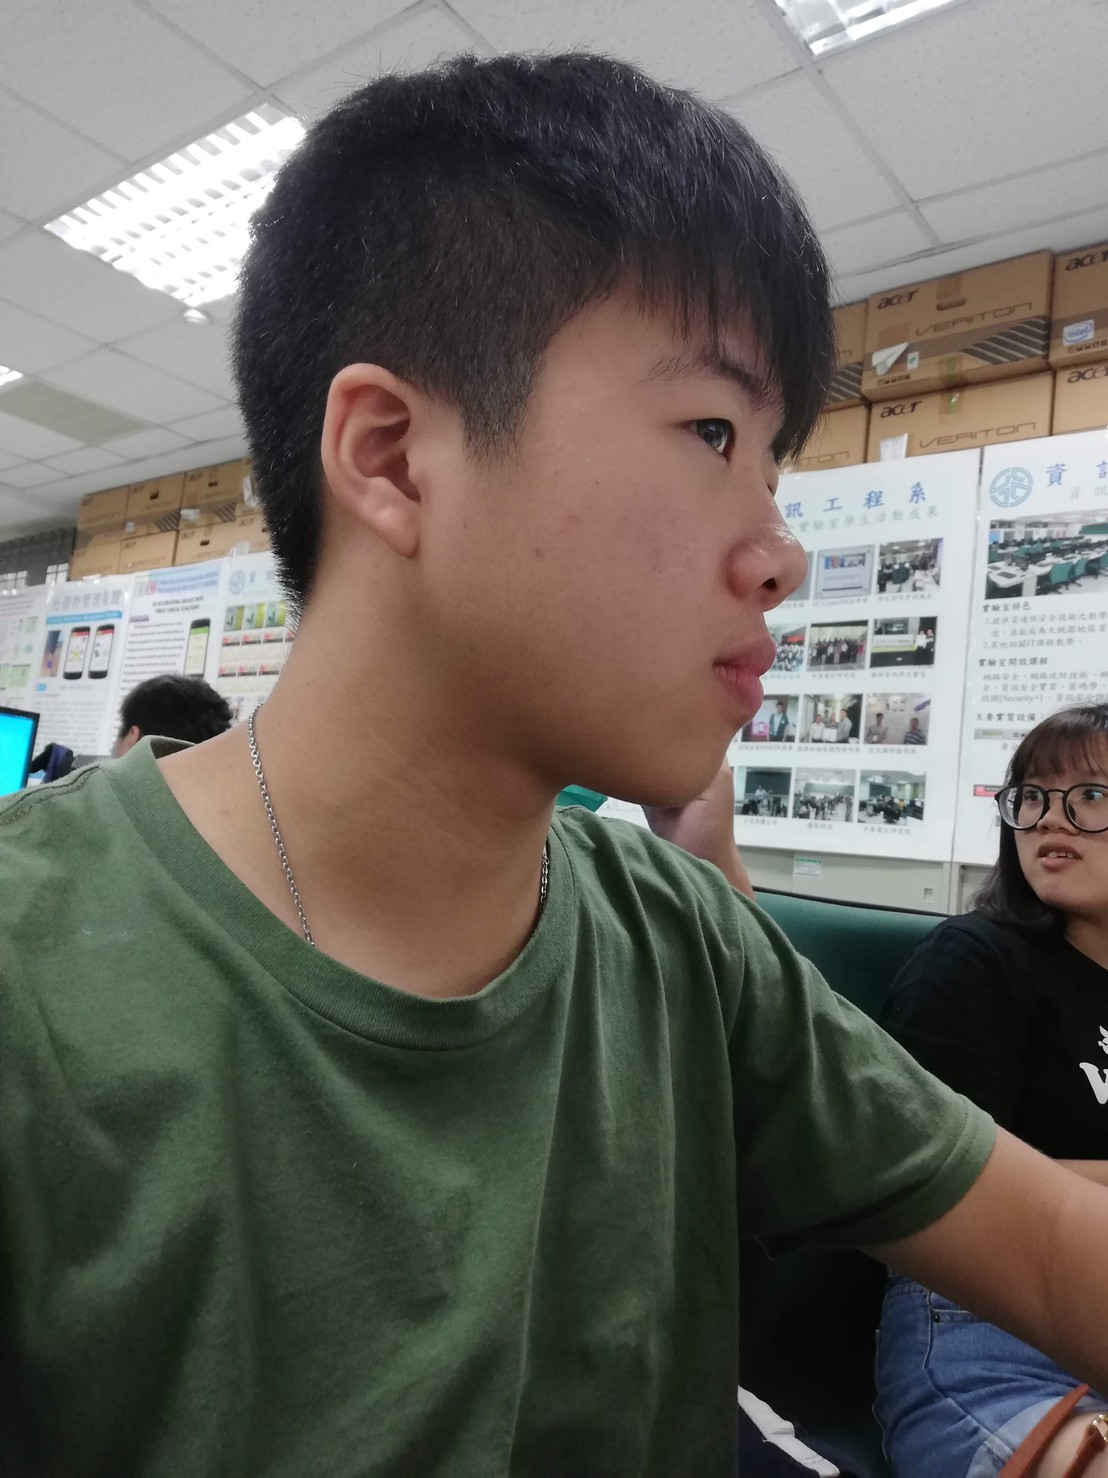people: (183, 40, 867, 1478), (895, 645, 1108, 1478), (74, 654, 255, 778)
